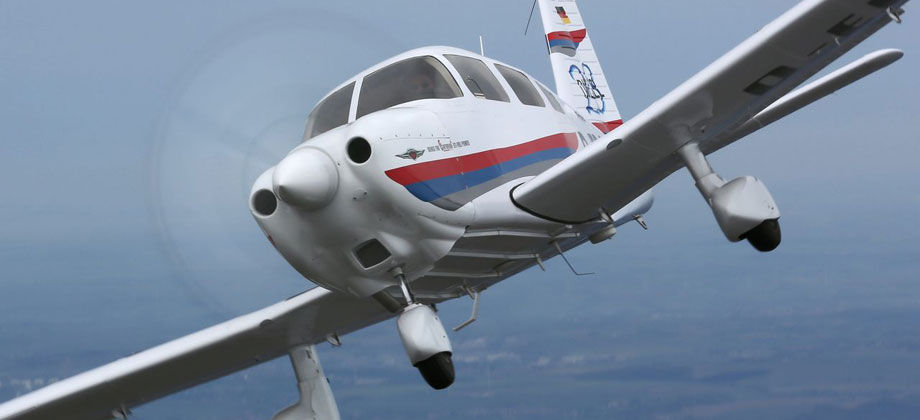Aeronef_de_loisir: (1, 1, 918, 419)
